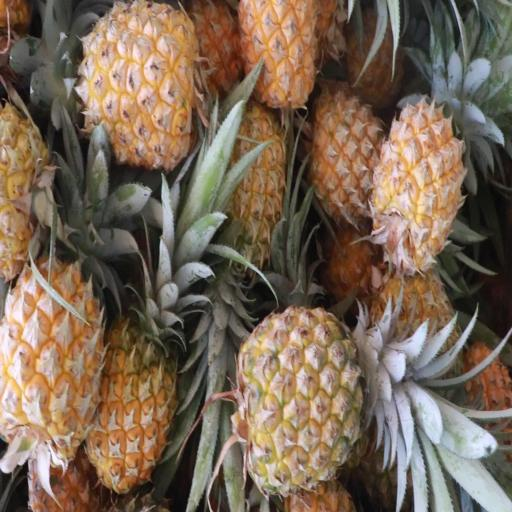------------------------------: (231, 304, 429, 495)
Pineapple - v8 v1: (84, 227, 182, 493), (0, 249, 103, 484), (54, 0, 197, 163), (194, 92, 289, 312), (365, 85, 471, 282), (309, 80, 384, 220)
